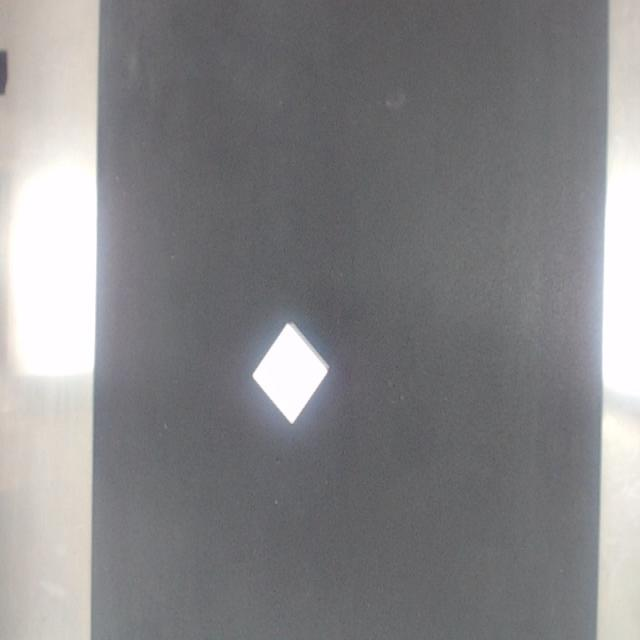Blanco: (252, 323, 329, 424)
